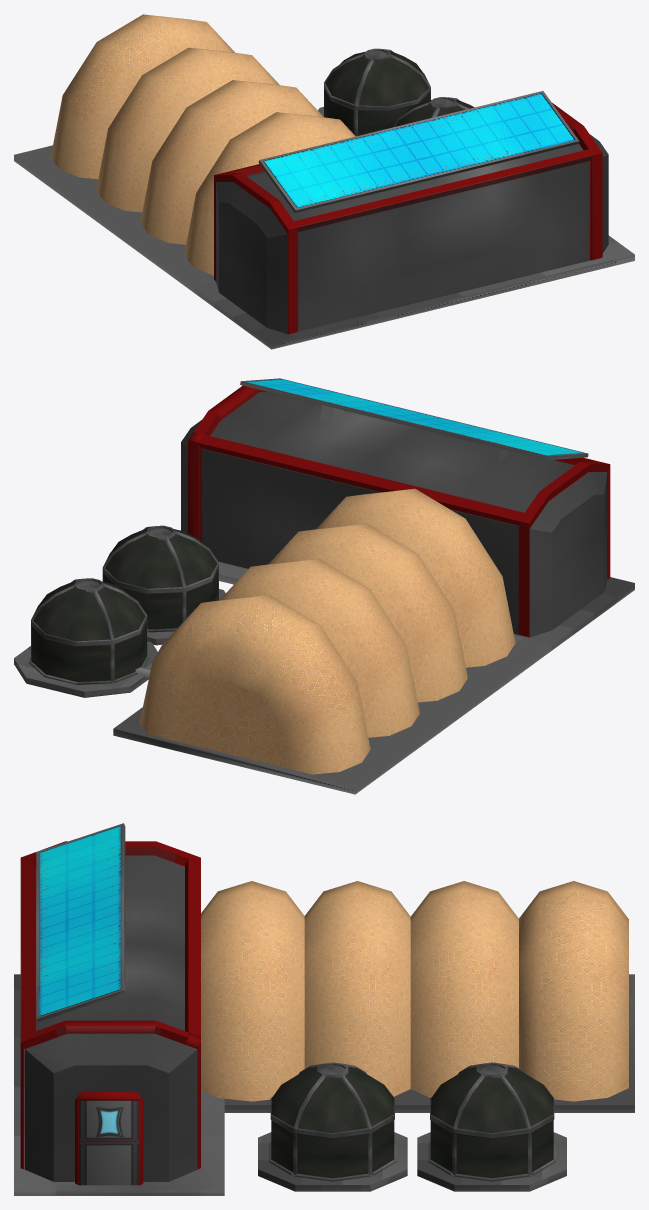
3 renders of one model, top to bottom at view 1: azimuth 30°, elevation 25°; view 2: azimuth 150°, elevation 25°; view 3: azimuth 270°, elevation 25°, orthographic. The views are drawn at different scales.
Parts seen in each view (by area): view 1: pCube24, pCube30, pCube23, pTorus1, pTorus2, pTorus3, pCube29, pCylinder16, pTorus4, pCylinder15; view 2: pCube24, pTorus1, pTorus2, pTorus3, pTorus4, pCube23, pCylinder16, pCube29, pCylinder15, pCube30, pCube28; view 3: pCube24, pTorus1, pTorus4, pTorus2, pTorus3, pCube30, pCylinder15, pCylinder16, pCube23, pCube29, polySurface18, pCube27 (+1 smaller).
Boxes of the visible parts, <box> form: pCube24: <box>216,134,608,334</box>; pCube30: <box>258,91,579,212</box>; pCube23: <box>14,145,634,349</box>; pTorus1: <box>50,14,234,179</box>; pTorus2: <box>96,47,279,212</box>; pTorus3: <box>140,80,323,244</box>; pCube29: <box>214,103,602,334</box>; pCylinder16: <box>324,48,430,136</box>; pTorus4: <box>184,112,355,275</box>; pCylinder15: <box>392,97,474,127</box>; pCube24: <box>181,391,607,637</box>; pTorus1: <box>139,595,370,774</box>; pTorus2: <box>220,558,419,737</box>; pTorus3: <box>268,523,467,702</box>; pTorus4: <box>316,488,515,667</box>; pCube23: <box>113,530,634,794</box>; pCylinder16: <box>29,578,149,684</box>; pCube29: <box>188,385,610,636</box>; pCylinder15: <box>102,525,218,632</box>; pCube30: <box>240,378,588,463</box>; pCube28: <box>14,641,157,697</box>; pCube24: <box>25,855,197,1181</box>; pTorus1: <box>519,881,628,1101</box>; pTorus4: <box>201,881,304,1101</box>; pTorus2: <box>410,881,518,1097</box>; pTorus3: <box>304,881,410,1096</box>; pCube30: <box>36,823,125,1022</box>; pCylinder15: <box>269,1062,396,1181</box>; pCylinder16: <box>428,1062,555,1181</box>; pCube23: <box>14,974,634,1195</box>; pCube29: <box>20,841,200,1169</box>; polySurface18: <box>75,1091,143,1185</box>; pCube27: <box>258,1132,407,1191</box>.
Bounding box in the file's own units: 2.7 × 1.05 × 3.31.
3 materials, 3 textured.
